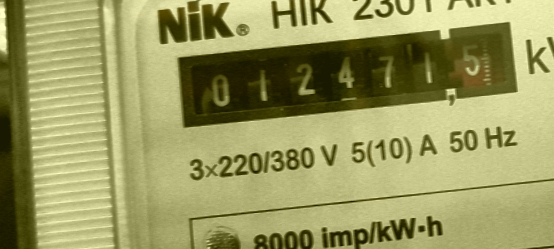0: (206, 69, 232, 107)
1: (255, 65, 269, 101), (420, 47, 433, 84)
2: (293, 58, 317, 96)
4: (334, 51, 356, 89)
5: (459, 38, 483, 77)
7: (373, 49, 397, 89)
screen: (165, 10, 530, 135)
